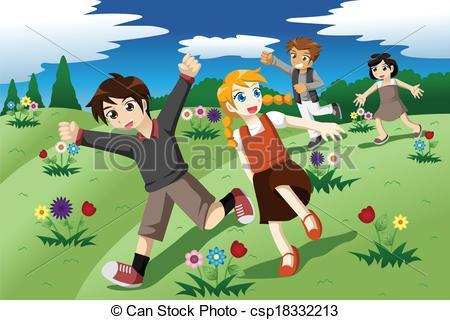person: (64, 55, 252, 284), (214, 68, 356, 280), (256, 36, 343, 149), (361, 50, 427, 145)
